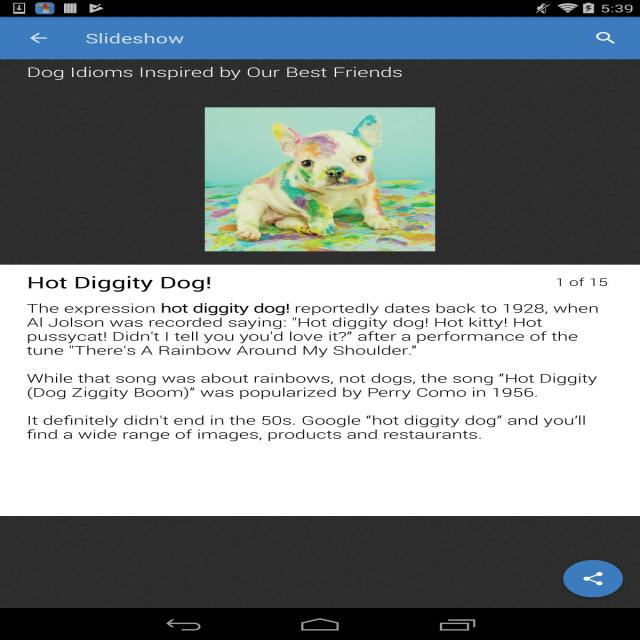button: (562, 559, 624, 598), (22, 27, 54, 51), (592, 27, 622, 49)
heading: (27, 272, 215, 295), (87, 31, 186, 50)
image: (206, 109, 434, 252)
text: (24, 300, 603, 448), (22, 64, 408, 82), (556, 275, 613, 290)
